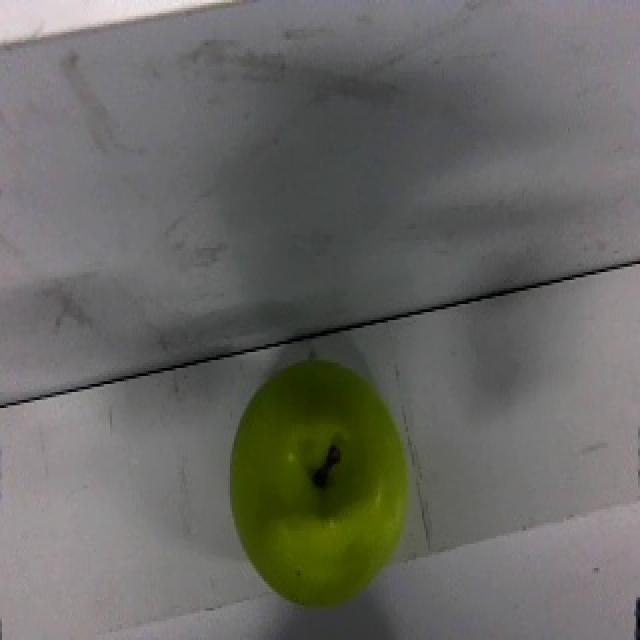apple: (226, 351, 410, 611)
